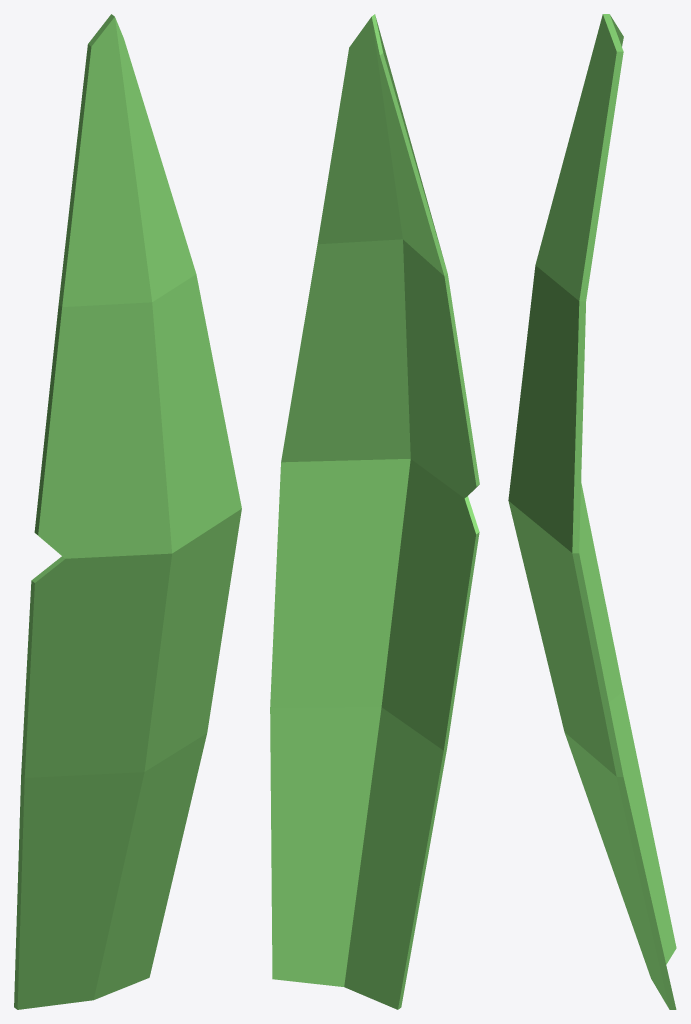
Rendered from Grass_1.fbx.
The picture shows the model from 3 angles, left to right: view 1: azimuth 30°, elevation 25°; view 2: azimuth 150°, elevation 25°; view 3: azimuth 270°, elevation 25°; orthographic projection. The views are drawn at different scales.
Visible parts, largest first — view 1: Grass_1; view 2: Grass_1; view 3: Grass_1.
Part boxes in pixels (<box>): Grass_1: <box>14,14,241,1009</box>; Grass_1: <box>270,14,479,1009</box>; Grass_1: <box>508,14,676,1009</box>.
Bounding box in the file's own units: 42.8 × 199 × 31.51.
